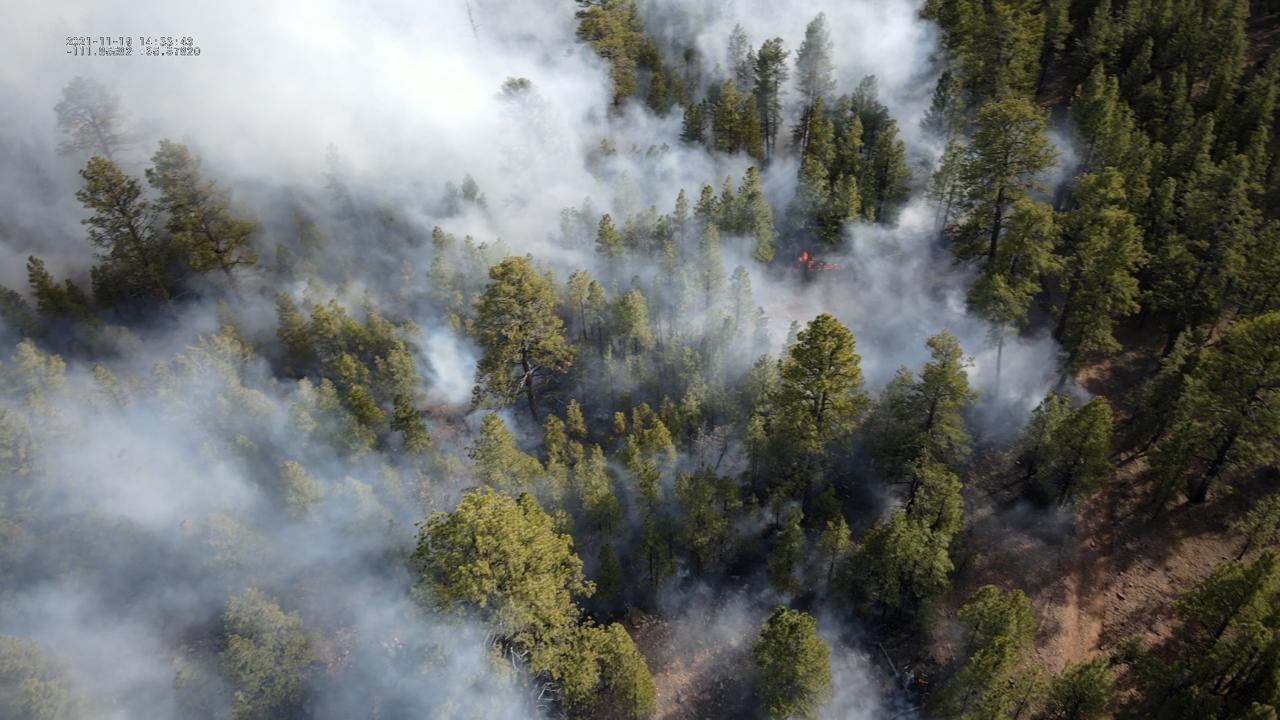fire: (797, 250, 840, 270)
smoke: (0, 0, 1099, 720)
